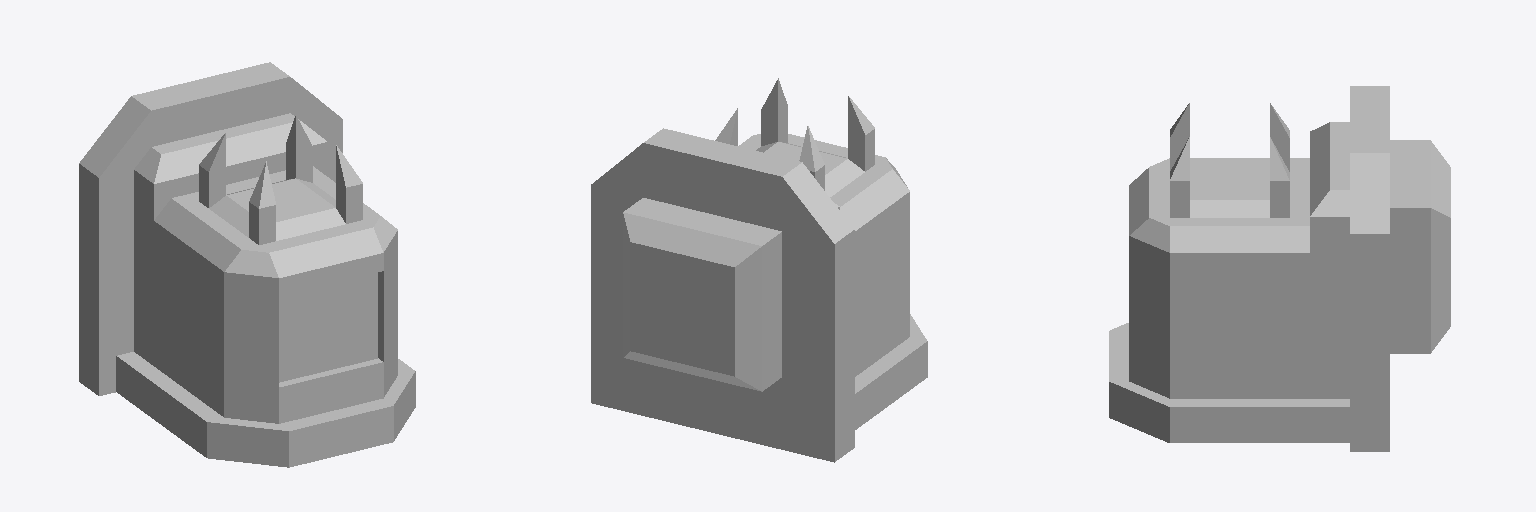
File: actuator_arcane_body.obj
3 renders of one model, left to right at view 1: azimuth 30°, elevation 25°; view 2: azimuth 150°, elevation 25°; view 3: azimuth 270°, elevation 25°, orthographic.
Visible parts, largest first — view 1: OCCULT_MATRIX_BODY_Cube.058; view 2: OCCULT_MATRIX_BODY_Cube.058; view 3: OCCULT_MATRIX_BODY_Cube.058.
Part boxes in pixels (bbox=[...]): OCCULT_MATRIX_BODY_Cube.058: bbox=[79, 62, 415, 467]; OCCULT_MATRIX_BODY_Cube.058: bbox=[591, 78, 927, 462]; OCCULT_MATRIX_BODY_Cube.058: bbox=[1109, 86, 1450, 451].
Size of the model in its own units: 0.875 by 0.9375 by 1.06.